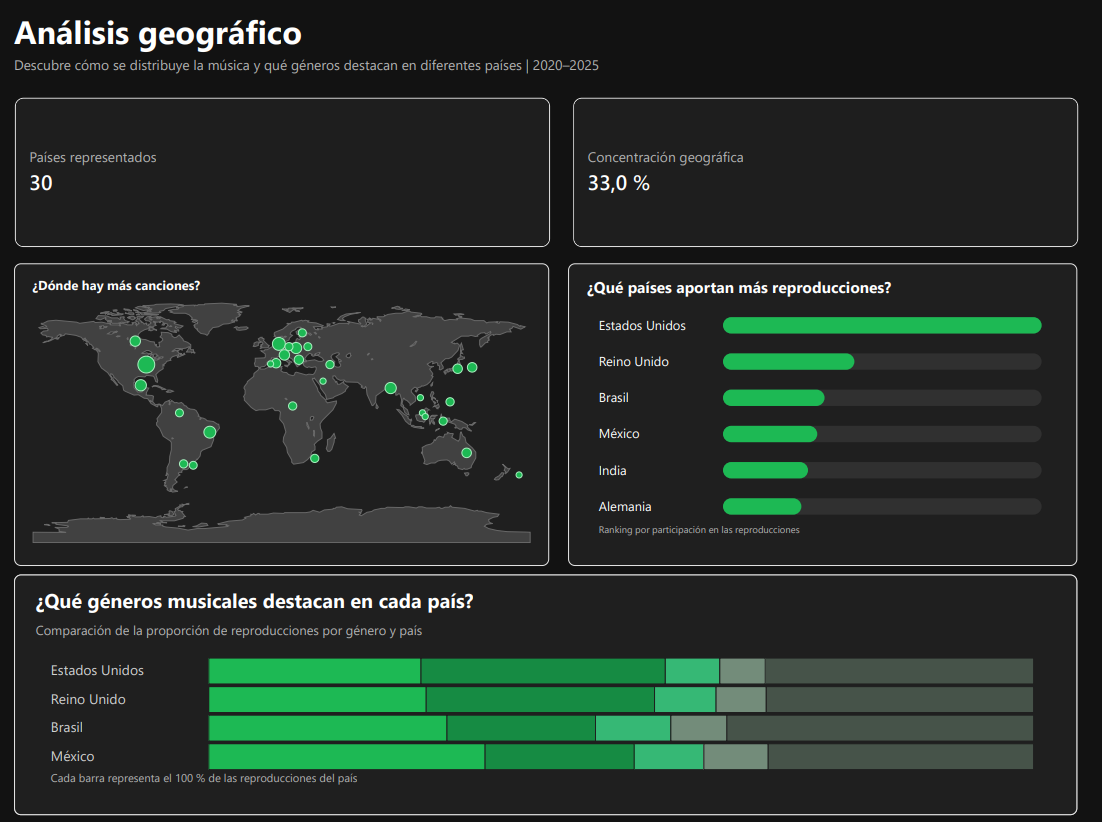

Layout of this report page (visuals, bound fields, positions):
{"tool":"powerbi","page":{"name":"Análisis geográfico","canvas":[1280,960],"ordinal":3},"visuals":[{"type":"textbox","box":[19.3,12.9,353.9,64.3],"z":0},{"type":"textbox","box":[19.3,66,698.1,48.3],"z":1},{"type":"cardVisual","fields":{"Data":["spotify_streaming_clean.Países representados"]},"box":[20,115,620,173.3],"z":2},{"type":"cardVisual","fields":{"Data":["spotify_streaming_clean.Concentración geográfica"]},"box":[666.7,115,585,173.3],"z":3},{"type":"deneb7E15AEF80B9E4D4F8E12924291ECE89A","fields":{"dataset":["spotify_streaming_clean.country","spotify_streaming_clean.Total Tracks"]},"box":[19.3,307.2,619.3,350.7],"z":5},{"type":"deneb7E15AEF80B9E4D4F8E12924291ECE89A","fields":{"dataset":["spotify_streaming_clean.country","spotify_streaming_clean.Total Streams"]},"box":[661.1,307.2,590.4,350.7],"z":7},{"type":"hundredPercentStackedBarChart","title":"¿Qué géneros musicales destacan en cada país?","fields":{"Category":["spotify_streaming_clean.country"],"Series":["spotify_streaming_clean.Grupo de género"],"Y":["spotify_streaming_clean.Total Streams"]},"box":[19.3,667.6,1232.2,279.9],"z":8},{"type":"deneb7E15AEF80B9E4D4F8E12924291ECE89A","fields":{"dataset":["spotify_streaming_clean.country","spotify_streaming_clean.Grupo de género","spotify_streaming_clean.Total Streams"]},"box":[19.3,667.6,1232.2,279.9],"z":10}]}

Visuals, with their boxes in screenshot pixels (x1, y1, x2, y2), scaled from the page's 1280x960 canvas onto the 1102x822 screenshot:
textbox: rect(17, 11, 321, 66)
textbox: rect(17, 57, 618, 98)
cardVisual - spotify_streaming_clean.Países representados: rect(17, 98, 551, 247)
cardVisual - spotify_streaming_clean.Concentración geográfica: rect(574, 98, 1078, 247)
deneb7E15AEF80B9E4D4F8E12924291ECE89A - spotify_streaming_clean.country x spotify_streaming_clean.Total Tracks: rect(17, 263, 550, 563)
deneb7E15AEF80B9E4D4F8E12924291ECE89A - spotify_streaming_clean.country x spotify_streaming_clean.Total Streams: rect(569, 263, 1077, 563)
"¿Qué géneros musicales destacan en cada país?" hundredPercentStackedBarChart: rect(17, 572, 1077, 811)
deneb7E15AEF80B9E4D4F8E12924291ECE89A - spotify_streaming_clean.country x spotify_streaming_clean.Grupo de género: rect(17, 572, 1077, 811)
